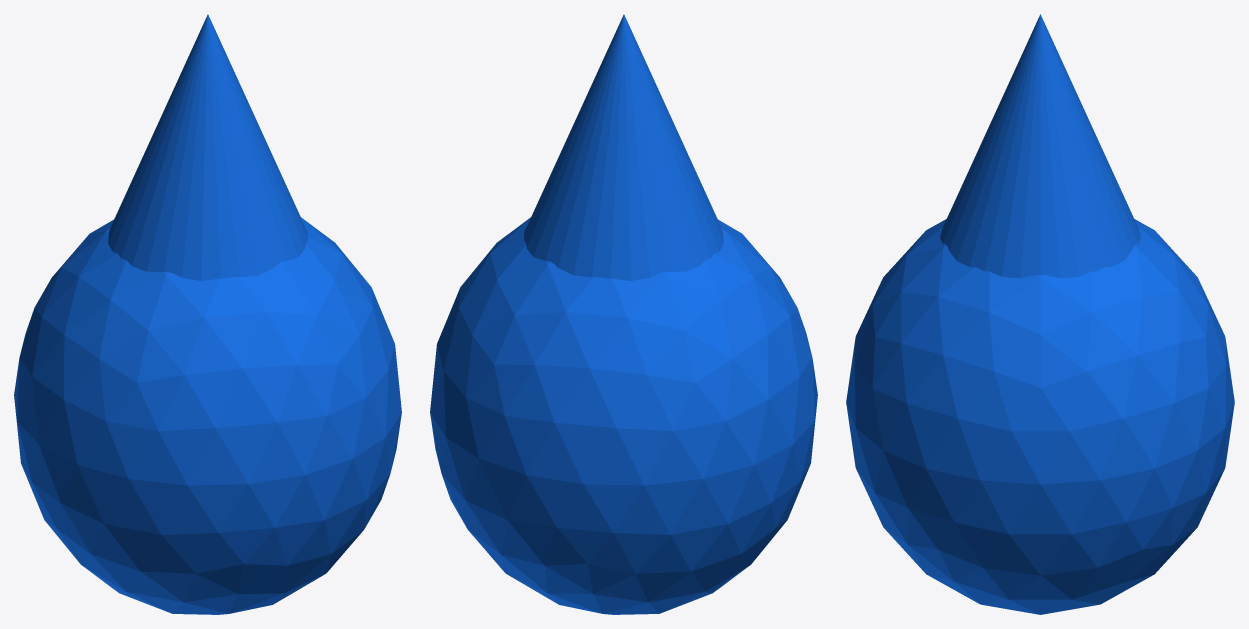
Rendered from rain.fbx.
3 views of the same model, side by side, from view 1: azimuth 30°, elevation 25°; view 2: azimuth 150°, elevation 25°; view 3: azimuth 270°, elevation 25° (orthographic).
Parts seen in each view (by area): view 1: Cone; view 2: Cone; view 3: Cone.
Part boxes in pixels (x1,y1,x2,y2): Cone: [14, 14, 401, 614]; Cone: [430, 14, 817, 614]; Cone: [846, 14, 1234, 614].
Size of the model in its own units: 179 by 297 by 179.
